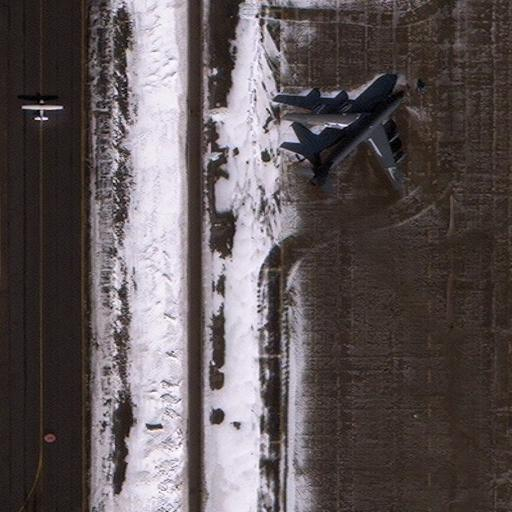Military Transport: (288, 95, 407, 183)
Small Civil Transport: (22, 98, 63, 123)
